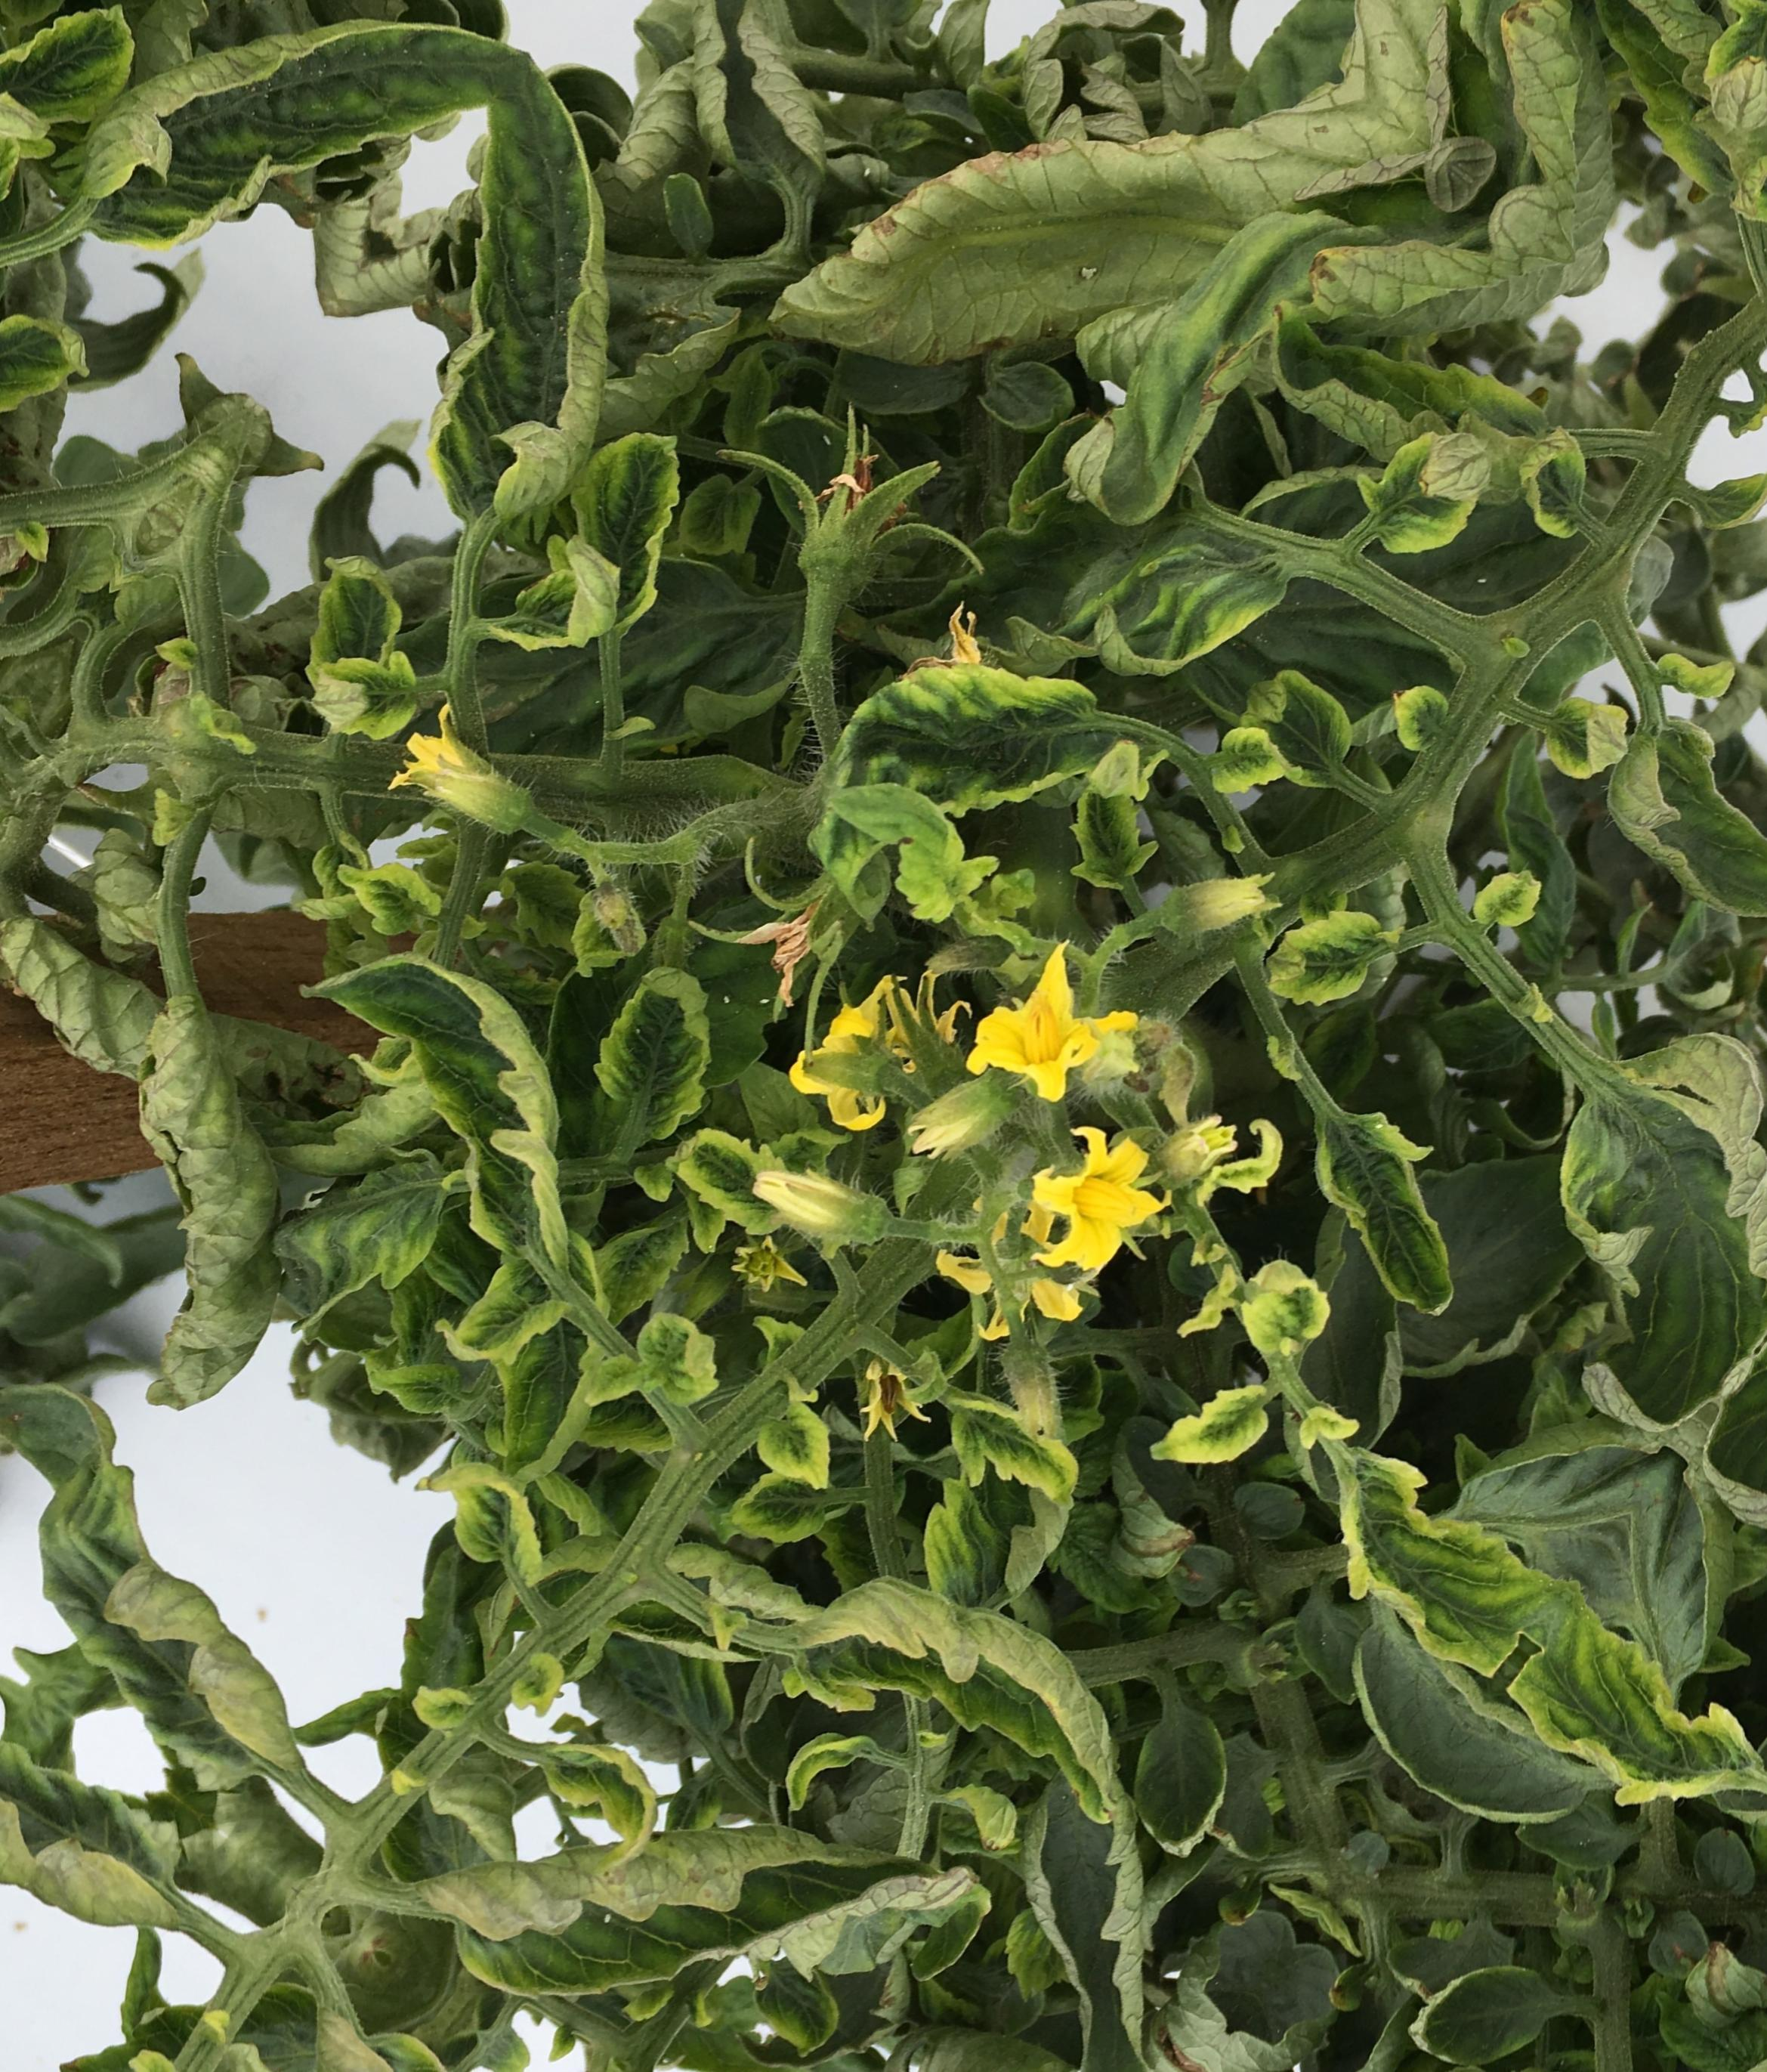Tomato leaf yellow virus: (638, 1448, 1264, 2012), (181, 878, 720, 1402), (1395, 934, 1767, 1495), (729, 549, 1178, 1006), (906, 398, 1331, 819), (1231, 1320, 1641, 1728), (431, 352, 770, 713), (524, 933, 771, 1181)
